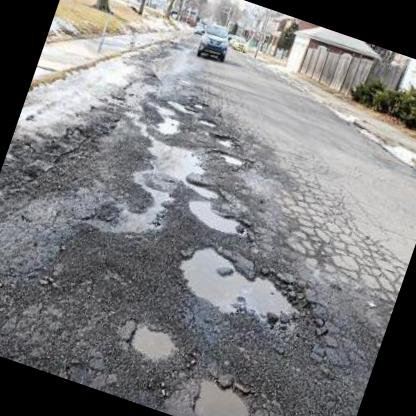pothole: (166, 235, 312, 336), (181, 367, 263, 416), (182, 191, 256, 239), (125, 316, 182, 364), (213, 146, 253, 171), (184, 177, 221, 199), (212, 130, 240, 151), (195, 114, 219, 129)
